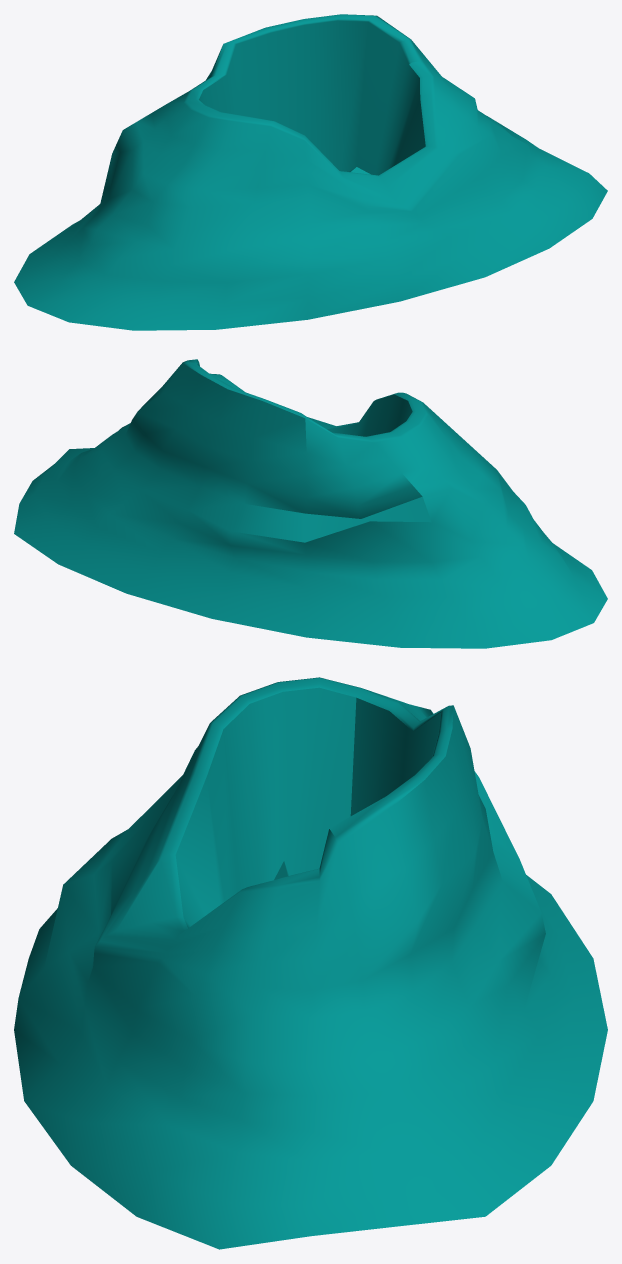
File: test_volcano 1.fbx
The picture shows the model from 3 angles, top to bottom: view 1: azimuth 30°, elevation 25°; view 2: azimuth 150°, elevation 25°; view 3: azimuth 270°, elevation 25°; orthographic projection. The views are drawn at different scales.
Visible parts, largest first — view 1: ter_volcano_uv_3; view 2: ter_volcano_uv_3; view 3: ter_volcano_uv_3.
Boxes of the visible parts, x1,y1,x2,y2 form: ter_volcano_uv_3: [14, 14, 607, 330]; ter_volcano_uv_3: [14, 359, 607, 648]; ter_volcano_uv_3: [14, 677, 607, 1249].
Size of the model in its own units: 226 by 71.34 by 126.
